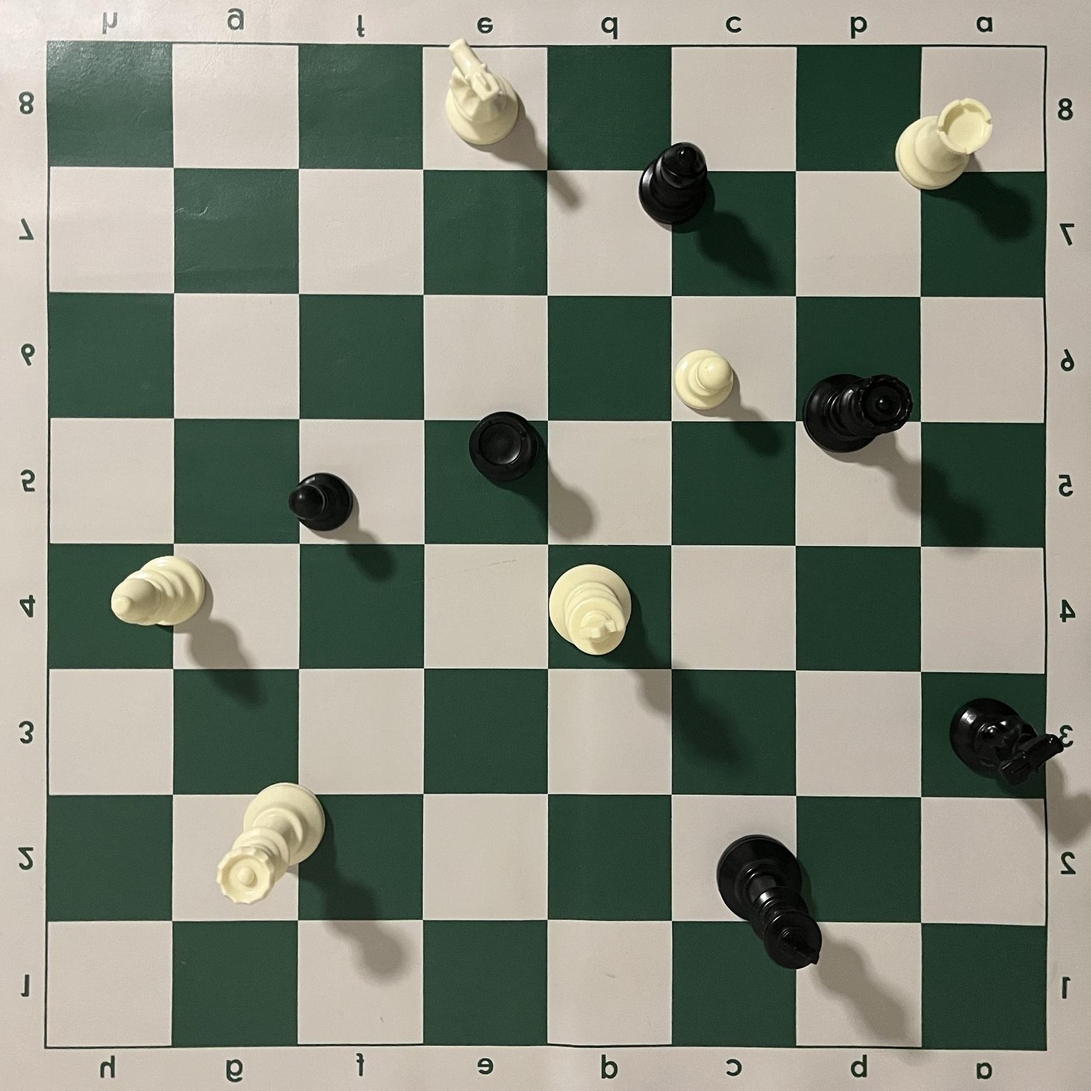black_bishop: (638, 141, 708, 226)
black_king: (716, 833, 823, 970)
black_knight: (950, 698, 1064, 786)
black_pawn: (289, 472, 354, 531)
black_queen: (801, 374, 913, 453)
black_rook: (469, 411, 539, 484)
white_bishop: (110, 555, 206, 627)
white_king: (548, 563, 631, 656)
white_knight: (443, 37, 520, 147)
white_pawn: (673, 349, 734, 411)
white_queen: (216, 782, 327, 906)
white_rook: (894, 96, 993, 191)
